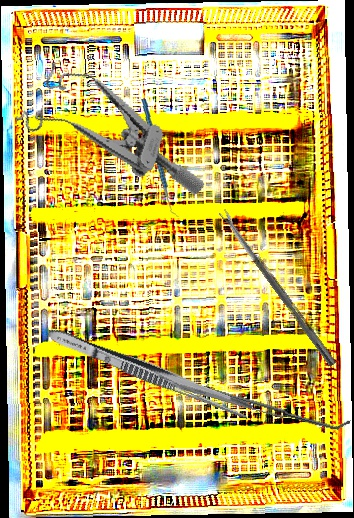Chopper: (131, 99, 191, 217)
Dressing Forceps: (44, 323, 255, 422)
Spatula Surgical: (124, 355, 352, 437)
Speculum: (7, 54, 227, 198)
Surgical Spoon: (218, 207, 338, 368)
